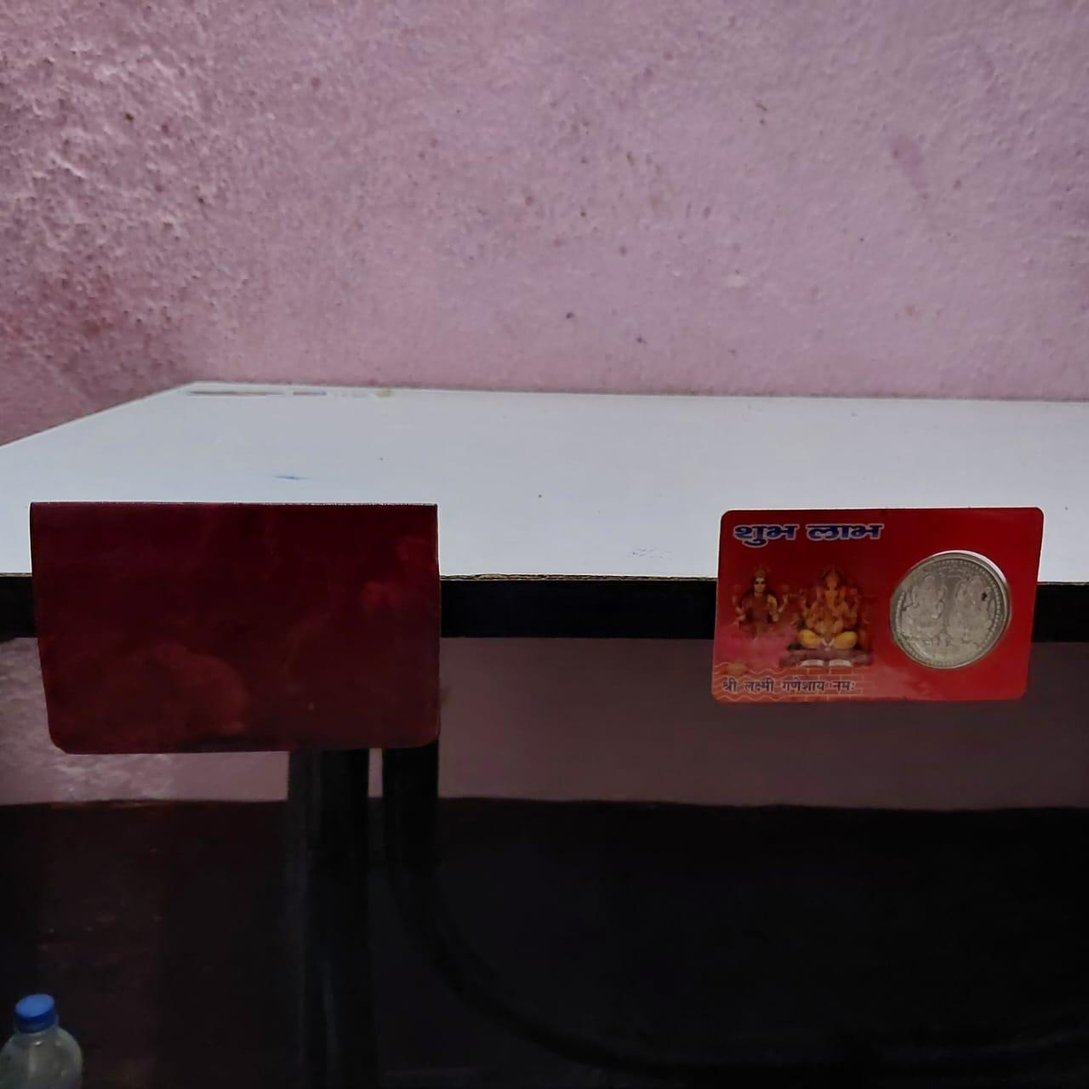blessing_card: (711, 504, 1042, 715)
wallet: (31, 504, 449, 753)
